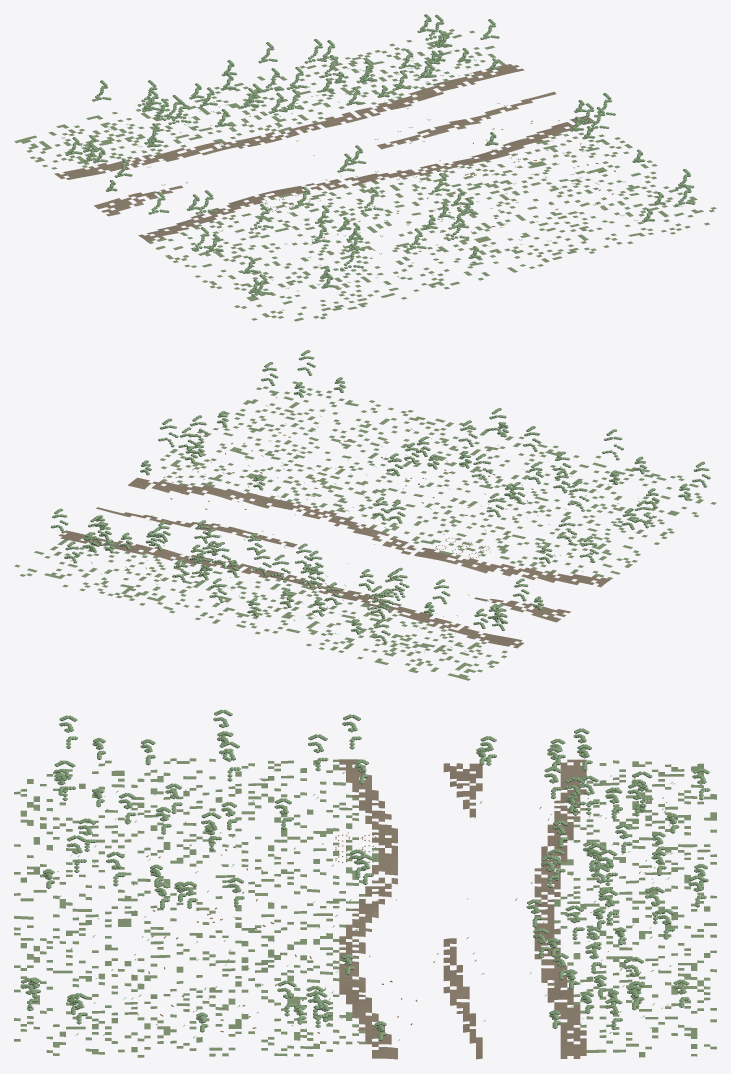
Rendered from ALCHUL_M1_GEOMETRY_03.glb.
3 views of the same model, one above another, from view 1: azimuth 30°, elevation 25°; view 2: azimuth 150°, elevation 25°; view 3: azimuth 270°, elevation 25° (orthographic). The views are drawn at different scales.
Visible parts, largest first — view 1: m1__moss, m1__leaf_light, m1__mud; view 2: m1__moss, m1__leaf_light, m1__mud; view 3: m1__moss, m1__leaf_light, m1__mud.
Part boxes in pixels (x1,y1,x2,y2): m1__moss: [14, 29, 716, 321]; m1__leaf_light: [61, 14, 695, 310]; m1__mud: [54, 64, 593, 241]; m1__moss: [14, 381, 716, 680]; m1__leaf_light: [51, 350, 710, 660]; m1__mud: [58, 477, 610, 648]; m1__moss: [14, 758, 716, 1057]; m1__leaf_light: [20, 709, 710, 1040]; m1__mud: [339, 759, 586, 1059].
Bounding box in the file's own units: 114 × 12.47 × 114.
